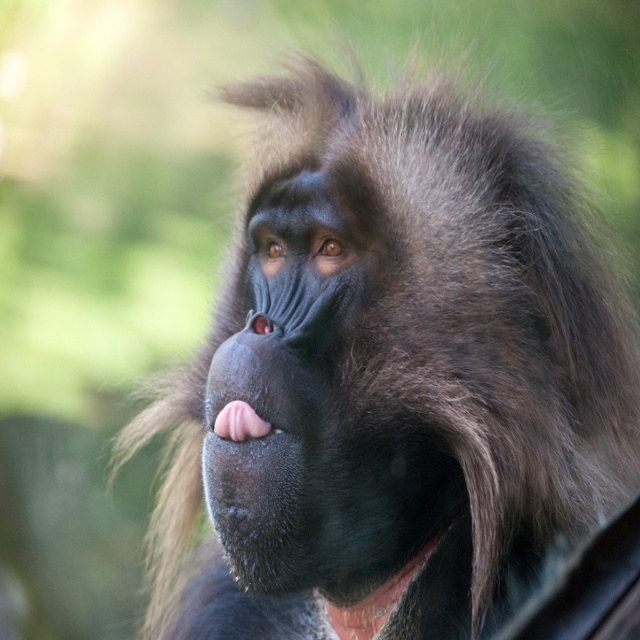Monkey: (94, 7, 640, 640)
